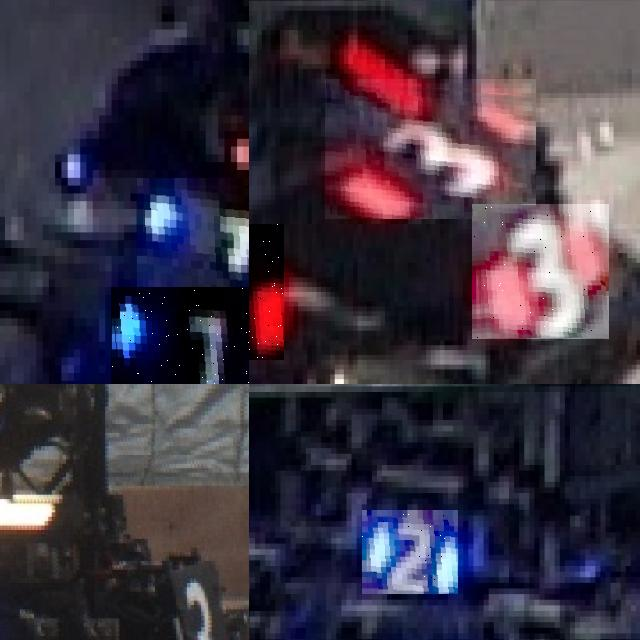B1: (111, 286, 249, 384), (136, 177, 249, 287)
B2: (362, 510, 458, 594)
R3: (325, 79, 536, 219), (472, 204, 609, 340), (249, 224, 284, 360)
